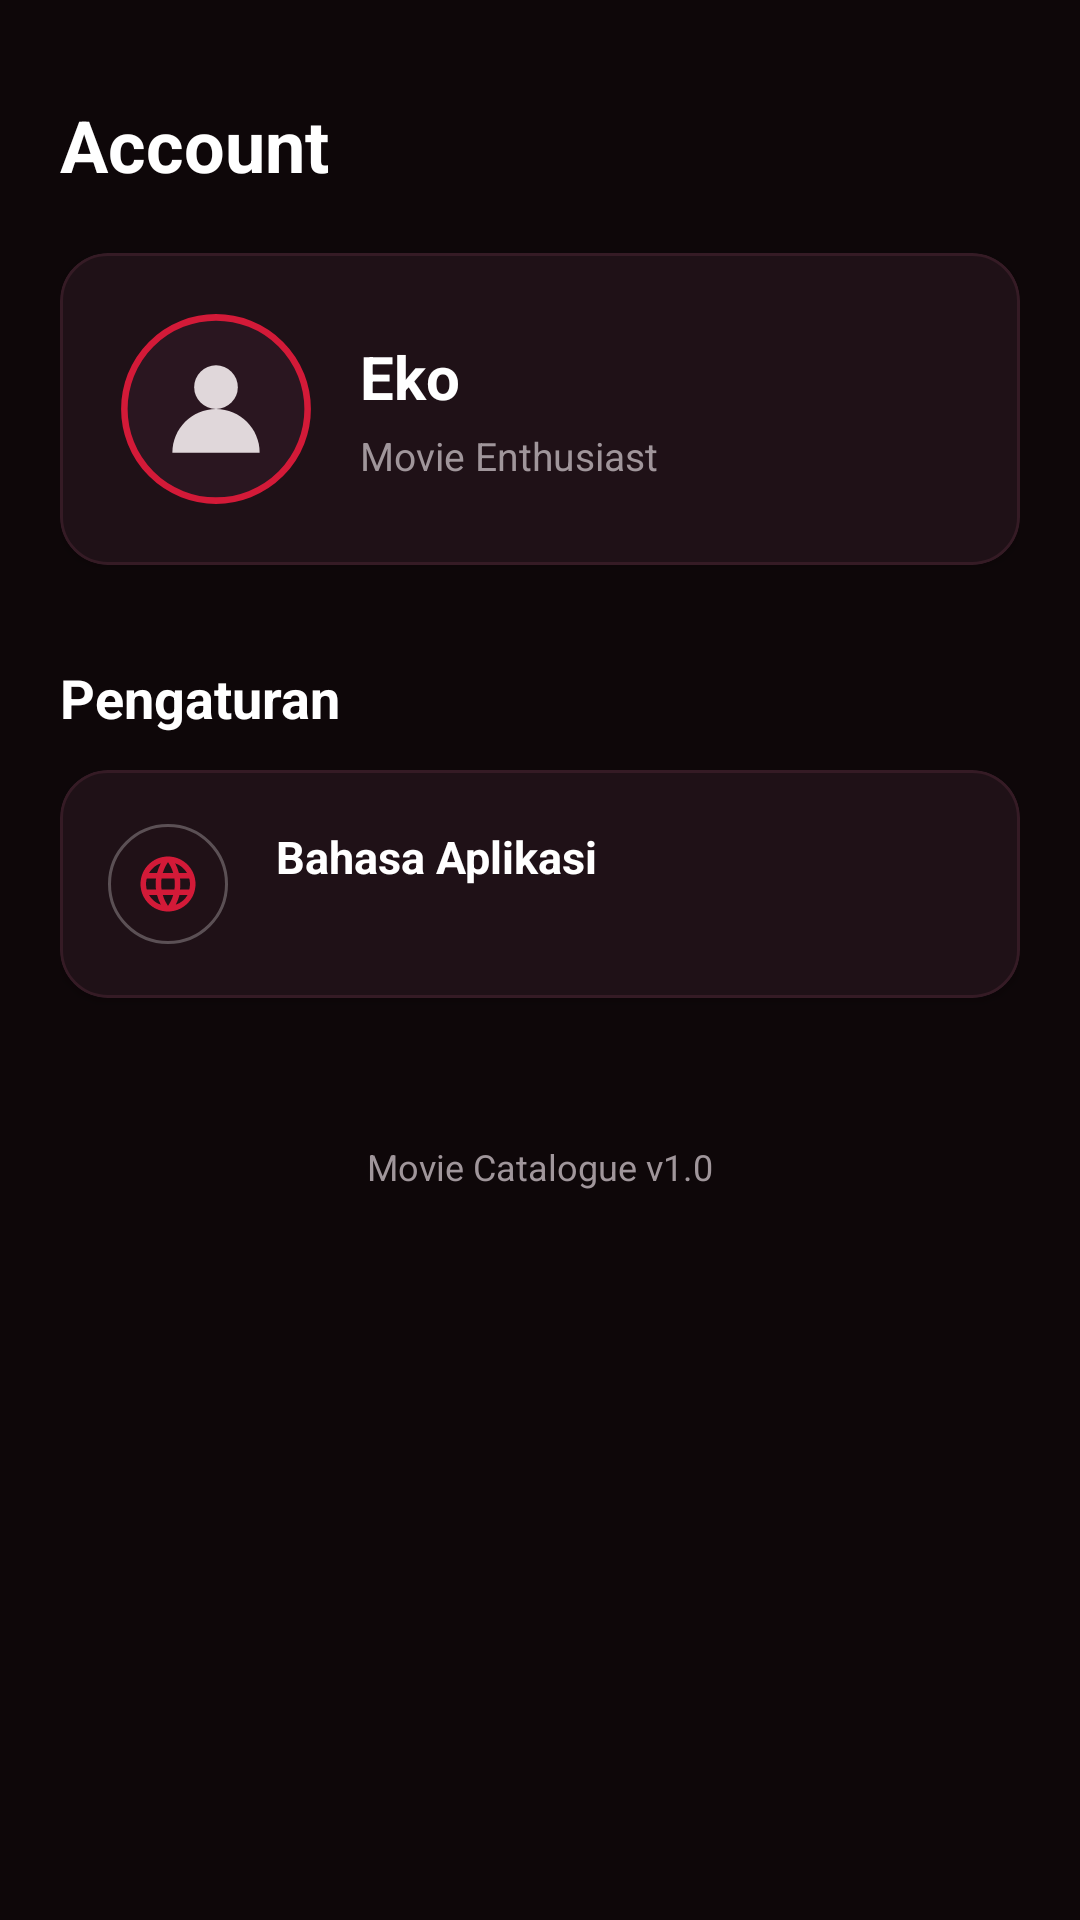

Screen size 1080px x 1920px. Icon name, then its box in pixels as (x1, y1, x2, y2):
language: (140, 856, 196, 912)
